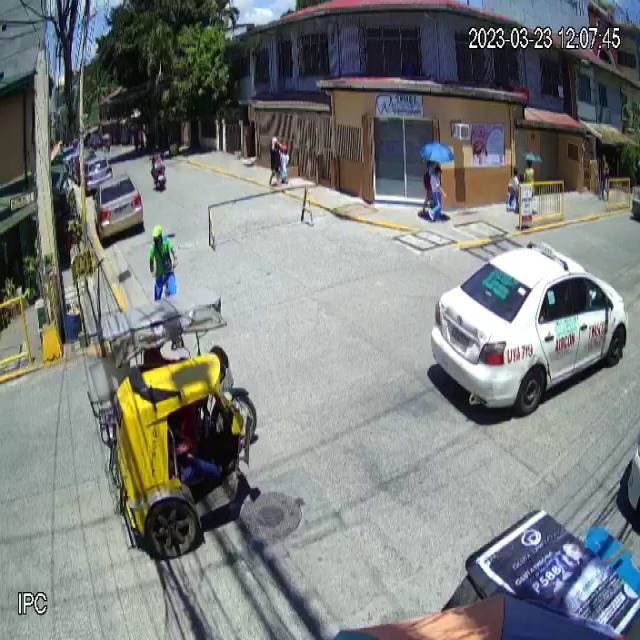Car: (429, 240, 629, 418)
Tricycle: (87, 299, 258, 564)
